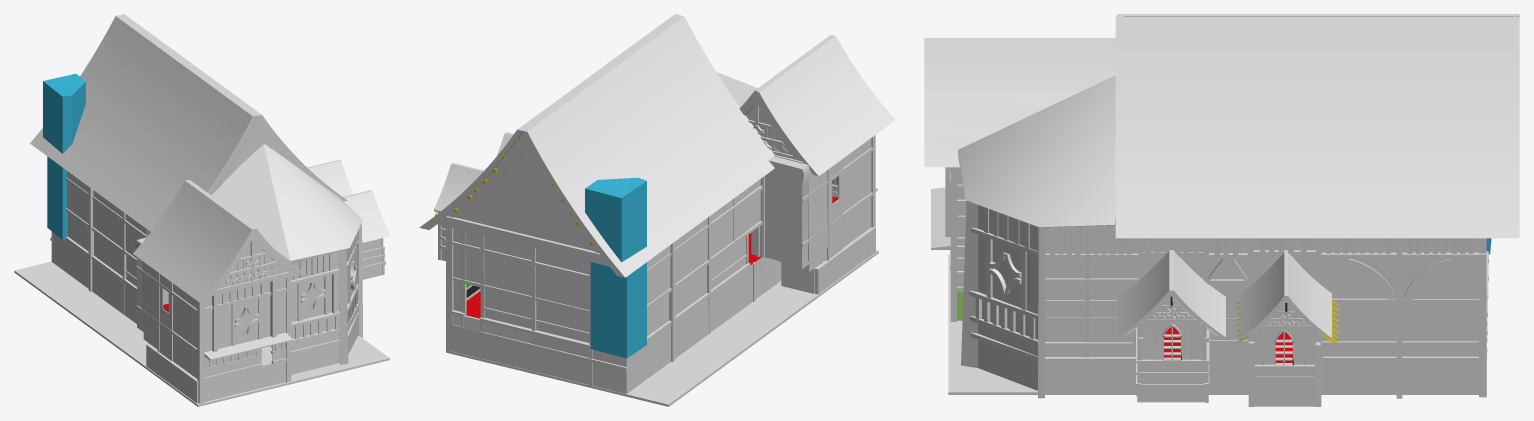
The model's file is Tavern.fbx.
3 views of the same model, side by side, from view 1: azimuth 30°, elevation 25°; view 2: azimuth 150°, elevation 25°; view 3: azimuth 270°, elevation 25° (orthographic). The views are drawn at different scales.
Visible parts, largest first — view 1: Tavern; view 2: Tavern; view 3: Tavern.
Part boxes in pixels (bbox=[...]): Tavern: bbox=[14, 14, 390, 406]; Tavern: bbox=[419, 14, 895, 406]; Tavern: bbox=[924, 14, 1519, 406].
Size of the model in its own units: 3197 by 2523 by 4193.
